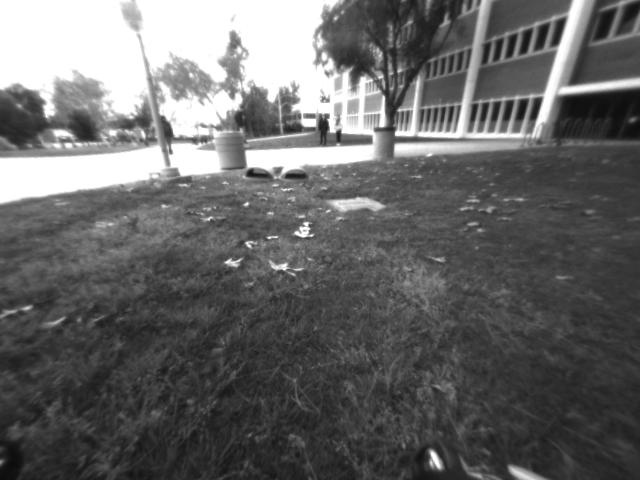trashcan: (214, 129, 247, 173), (368, 124, 398, 166)
